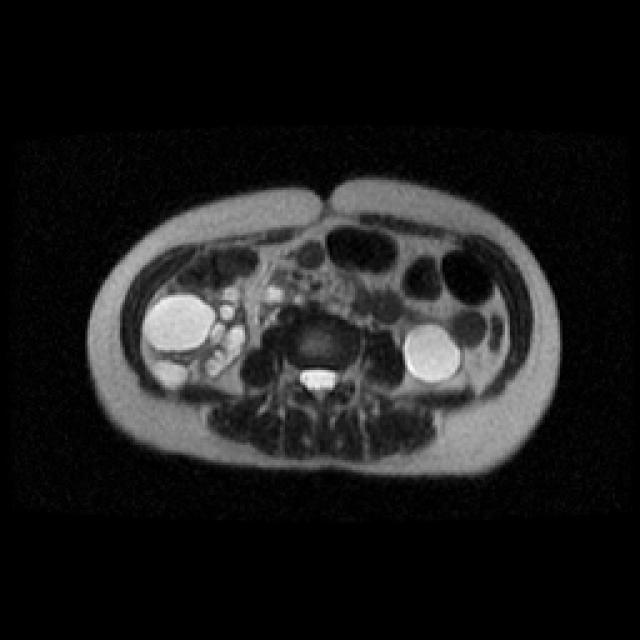sag: (144, 285, 248, 389)
sol: (404, 324, 469, 392)
